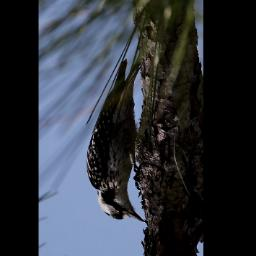Woodpecker: (81, 51, 151, 231)
